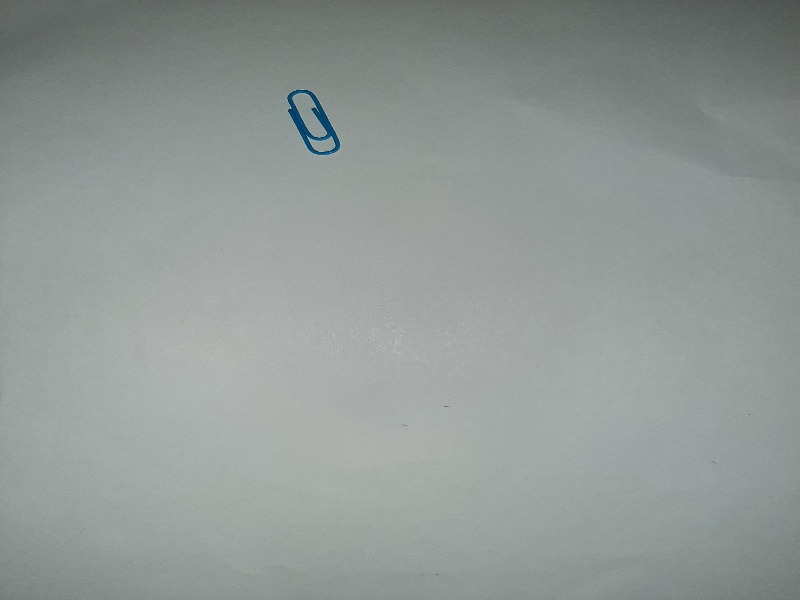Small Jumpclip: (281, 87, 348, 161)
